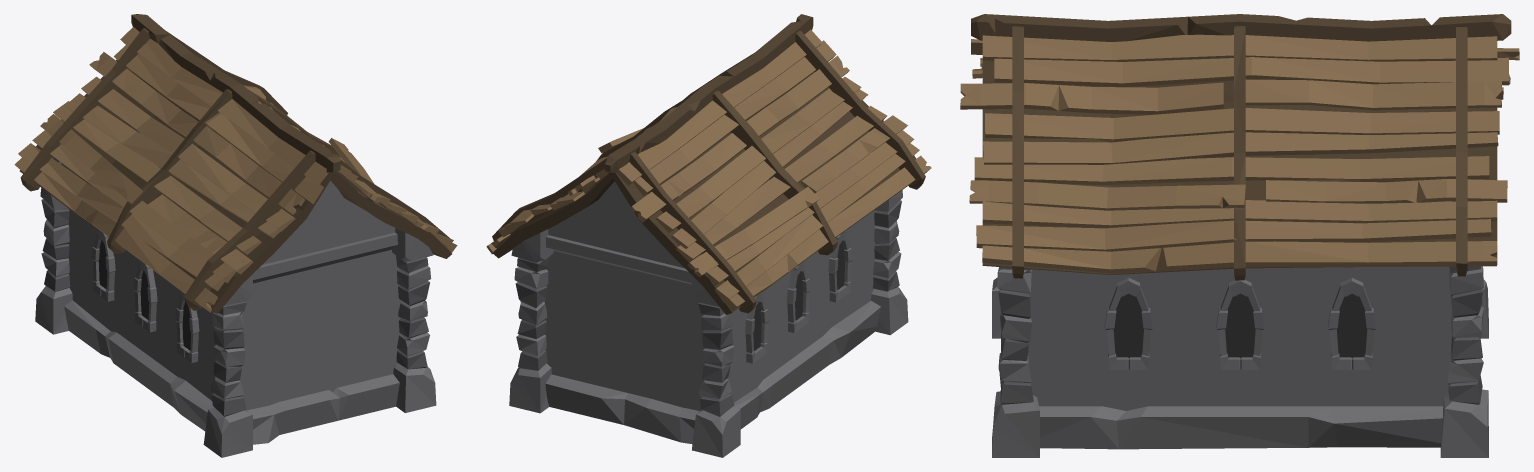
File: SM_Bld_Church_Room_01_Lite.gltf
The picture shows the model from 3 angles, left to right: view 1: azimuth 30°, elevation 25°; view 2: azimuth 150°, elevation 25°; view 3: azimuth 270°, elevation 25°; orthographic projection. The views are drawn at different scales.
Visible parts, largest first — view 1: SM_Bld_Church_Room_01_Lite; view 2: SM_Bld_Church_Room_01_Lite; view 3: SM_Bld_Church_Room_01_Lite.
Part boxes in pixels (bbox=[...]): SM_Bld_Church_Room_01_Lite: bbox=[14, 14, 457, 457]; SM_Bld_Church_Room_01_Lite: bbox=[486, 14, 931, 457]; SM_Bld_Church_Room_01_Lite: bbox=[960, 14, 1519, 457].
Bounding box in the file's own units: 6.42 × 6.4 × 8.75.
1 material, 1 textured.
